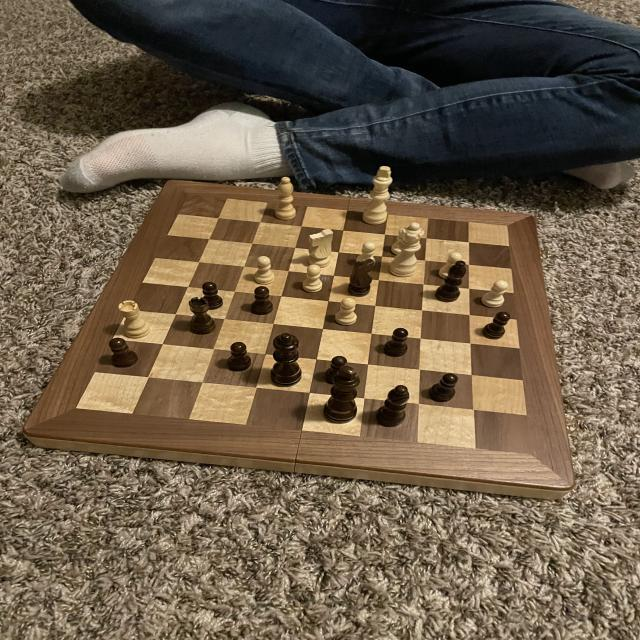bishop: (373, 383, 411, 428), (431, 259, 469, 304)
black-bishop: (319, 363, 362, 426)
black-king: (346, 257, 376, 298)
black-knight: (106, 336, 141, 370), (479, 309, 513, 342), (426, 371, 459, 404), (382, 325, 412, 360), (248, 284, 276, 316), (197, 280, 225, 312), (225, 340, 252, 373), (323, 353, 349, 386)
black-pawn: (266, 331, 306, 389)
black-queen: (186, 295, 218, 337)
black-rook: (273, 175, 298, 221)
white-bishop: (360, 164, 396, 226)
white-king: (304, 226, 336, 270)
white-knight: (480, 278, 511, 310), (332, 296, 362, 327), (252, 254, 279, 287), (438, 250, 463, 282), (353, 239, 379, 268), (390, 226, 414, 255), (301, 265, 325, 293)
white-pawn: (386, 221, 428, 279)
white-queen: (115, 298, 153, 340)
